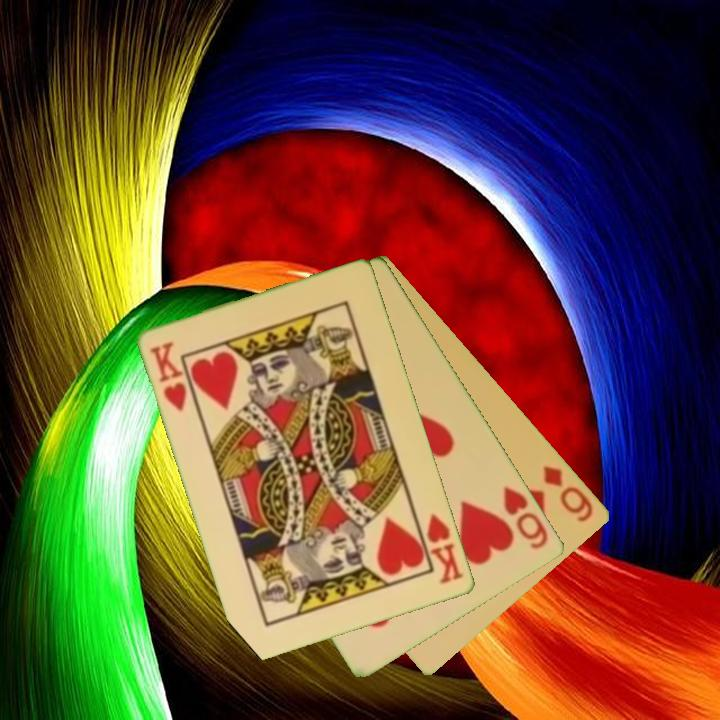6d: (539, 462, 597, 525)
6h: (500, 482, 552, 553)
Kh: (413, 510, 467, 587), (147, 338, 191, 415)
